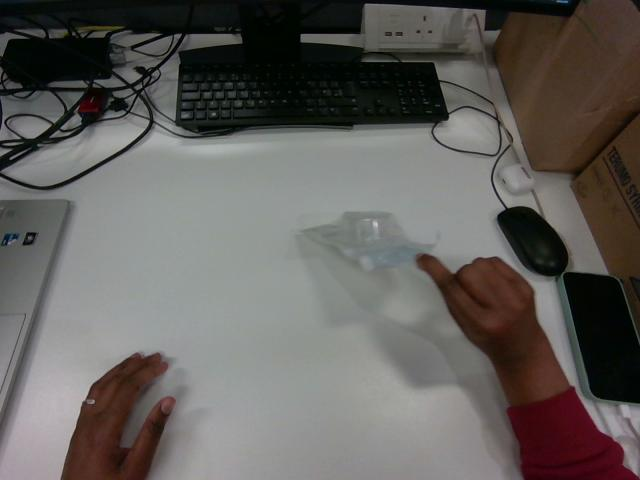gallipot: (302, 211, 434, 270)
